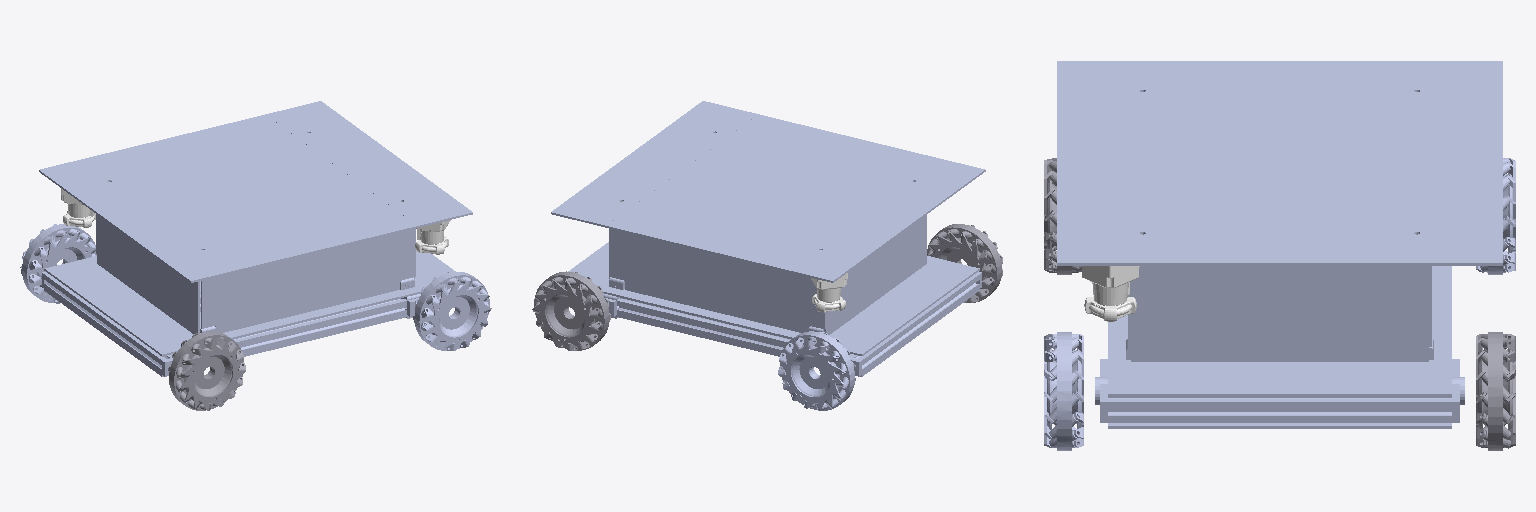
robot.urdf — itu_odv_description:
<?xml version="1.0" encoding="utf-8"?>
<!-- This URDF was automatically created by SolidWorks to URDF Exporter! Originally created by [author] ([email redacted]) 
     Commit Version: 1.6.0-1-g15f4949  Build Version: 1.6.7594.29634
     For more information, please see http://wiki.ros.org/sw_urdf_exporter -->
<robot
  name="itu_odv_description">
  <!-- base_link -->
  <link
    name="base_link">
    <inertial>
      <origin
        xyz="3.1086E-15 3.1114E-14 0.063778"
        rpy="0 0 0" />
      <mass
        value="1" />
      <inertia
        ixx="0.0838"
        ixy="2.8145E-10"
        ixz="-9.7612E-15"
        iyy="0.079577"
        iyz="-3.0801E-17"
        izz="0.15789" />
    </inertial>
    <visual>
      <origin
        xyz="0 0 0"
        rpy="0 0 0" />
      <geometry>
        <mesh
          filename="package://itu_odv_description/meshes/base_link.STL" />
      </geometry>
      <material
        name="">
        <color
          rgba="0.79216 0.81961 0.93333 1" />
      </material>
    </visual>
    <collision>
      <origin
        xyz="0 0 0"
        rpy="0 0 0" />
      <geometry>
        <mesh
          filename="package://itu_odv_description/meshes/base_link.STL" />
      </geometry>
    </collision>
  </link>
  <!-- front_right_wheel_link -->
  <link
    name="front_right_wheel_link">
    <inertial>
      <origin
        xyz="-5.2003E-09 -1.5816E-05 -7.4067E-09"
        rpy="0 0 0" />
      <mass
        value="0.1" />
      <inertia
        ixx="0.00072883"
        ixy="2.5798E-11"
        ixz="-2.3168E-10"
        iyy="0.0013926"
        iyz="-3.7292E-11"
        izz="0.00072883" />
    </inertial>
    <visual>
      <origin
        xyz="0 0 0"
        rpy="0 0 0" />
      <geometry>
        <mesh
          filename="package://itu_odv_description/meshes/front_right_wheel_link.STL" />
      </geometry>
      <material
        name="">
        <color
          rgba="0.79216 0.81961 0.93333 1" />
      </material>
    </visual>
    <collision>
      <origin
        xyz="-5.2003E-09 -1.5816E-05 -7.4067E-09"
        rpy="0 0 0" />
      <geometry>
        <mesh
          filename="package://itu_odv_description/meshes/front_right_wheel_link.STL" />
      </geometry>
    </collision>
  </link>
  <joint
    name="front_right_wheel_joint"
    type="continuous">
    <origin
      xyz="0.265 -0.275 -0.0053038"
      rpy="0 0 0" />
    <parent
      link="base_link" />
    <child
      link="front_right_wheel_link" />
    <axis
      xyz="0 1 0" />
    <limit
      effort="100"
      velocity="100" />
  </joint>

  <!-- front_left_wheel_link -->
  <link
    name="front_left_wheel_link">
    <inertial>
      <origin
        xyz="-1.2223E-09 1.599E-05 1.0161E-08"
        rpy="0 0 0" />
      <mass
        value="0.1" />
      <inertia
        ixx="0.00072883"
        ixy="4.9301E-13"
        ixz="-1.1558E-10"
        iyy="0.0013926"
        iyz="-2.5587E-11"
        izz="0.00072883" />
    </inertial>
    <visual>
      <origin
        xyz="0 0 0"
        rpy="0 0 0" />
      <geometry>
        <mesh
          filename="package://itu_odv_description/meshes/front_left_wheel_link.STL" />
      </geometry>
      <material
        name="">
        <color
          rgba="0.67843 0.67843 0.72941 1" />
      </material>
    </visual>
    <collision>
      <origin
        xyz="-5.2003E-09 -1.5816E-05 -7.4067E-09"
        rpy="0 0 0" />
      <geometry>
        <mesh
          filename="package://itu_odv_description/meshes/front_left_wheel_link.STL" />
      </geometry>
    </collision>
  </link>
  <joint
    name="front_left_wheel_joint"
    type="continuous">
    <origin
      xyz="0.265 0.275 -0.0053038"
      rpy="0 0 0" />
    <parent
      link="base_link" />
    <child
      link="front_left_wheel_link" />
    <axis
      xyz="0 -1 0" />
    <limit
      effort="100"
      velocity="100" />
  </joint>

  <!-- rear_right_wheel_link -->
  <link
    name="rear_right_wheel_link">
    <inertial>
      <origin
        xyz="9.4049E-12 1.599E-05 9.4543E-09"
        rpy="0 0 0" />
      <mass
        value="0.1" />
      <inertia
        ixx="0.00072883"
        ixy="2.1862E-12"
        ixz="-3.7811E-10"
        iyy="0.0013926"
        iyz="-1.9384E-11"
        izz="0.00072883" />
    </inertial>
    <visual>
      <origin
        xyz="0 0 0"
        rpy="0 0 0" />
      <geometry>
        <mesh
          filename="package://itu_odv_description/meshes/rear_right_wheel_link.STL" />
      </geometry>
      <material
        name="">
        <color
          rgba="0.67843 0.67843 0.72941 1" />
      </material>
    </visual>
    <collision>
      <origin
        xyz="-5.2003E-09 -1.5816E-05 -7.4067E-09"
        rpy="0 0 0" />
      <geometry>
        <mesh
          filename="package://itu_odv_description/meshes/rear_right_wheel_link.STL" />
      </geometry>
    </collision>
  </link>
  <joint
    name="rear_right_wheel_joint"
    type="continuous">
    <origin
      xyz="-0.265 -0.275 -0.0053038"
      rpy="0 0 0" />
    <parent
      link="base_link" />
    <child
      link="rear_right_wheel_link" />
    <axis
      xyz="0 1 0" />
    <limit
      effort="100"
      velocity="100" />
  </joint>

  <!-- rear_left_wheel_link -->
  <link
    name="rear_left_wheel_link">
    <inertial>
      <origin
        xyz="-5.1274E-09 -1.5816E-05 -7.7023E-09"
        rpy="0 0 0" />
      <mass
        value="0.1" />
      <inertia
        ixx="0.00072883"
        ixy="3.1087E-11"
        ixz="-2.0848E-10"
        iyy="0.0013926"
        iyz="-3.4598E-11"
        izz="0.00072883" />
    </inertial>
    <visual>
      <origin
        xyz="0 0 0"
        rpy="0 0 0" />
      <geometry>
        <mesh
          filename="package://itu_odv_description/meshes/rear_left_wheel_link.STL" />
      </geometry>
      <material
        name="">
        <color
          rgba="0.79216 0.81961 0.93333 1" />
      </material>
    </visual>
    <collision>
      <origin
        xyz="-5.2003E-09 -1.5816E-05 -7.4067E-09"
        rpy="0 0 0" />
      <geometry>
        <mesh
          filename="package://itu_odv_description/meshes/rear_left_wheel_link.STL" />
      </geometry>
    </collision>
  </link>
  <joint
    name="rear_left_wheel_joint"
    type="continuous">
    <origin
      xyz="-0.265 0.275 -0.0053038"
      rpy="0 0 0" />
    <parent
      link="base_link" />
    <child
      link="rear_left_wheel_link" />
    <axis
      xyz="0 -1 0" />
    <limit
      effort="100"
      velocity="100" />
  </joint>

  <!-- front_laser -->
  <link
    name="front_laser_link">
    <inertial>
      <origin
        xyz="0 0 0"
        rpy="0 0 0" />
      <mass
        value="0.1" />
      <inertia
        ixx="0"
        ixy="0"
        ixz="0"
        iyy="0"
        iyz="0"
        izz="0" />
    </inertial>
    <visual>
      <origin
        xyz="0 0 0"
        rpy="0 0 0" />
      <geometry>
        <mesh
          filename="package://itu_odv_description/meshes/front_laser_link.STL" />
      </geometry>
      <material
        name="">
        <color
          rgba="1 1 1 1" />
      </material>
    </visual>
    <collision>
      <origin
        xyz="0 0 0"
        rpy="0 0 0" />
      <geometry>
        <mesh
          filename="package://itu_odv_description/meshes/front_laser_link.STL" />
      </geometry>
    </collision>
  </link>
  <joint
    name="front_laser_joint"
    type="fixed">
    <origin
      xyz="0.25602 -0.21602 0.1487"
      rpy="3.1416 0 -0.7854" />
    <parent
      link="base_link" />
    <child
      link="front_laser_link" />
    <axis
      xyz="0 0 0" />
  </joint>

  <!-- rear_laser -->
  <link
    name="rear_laser_link">
    <inertial>
      <origin
        xyz="0 0 0"
        rpy="0 0 0" />
      <mass
        value="0.1" />
      <inertia
        ixx="0"
        ixy="0"
        ixz="0"
        iyy="0"
        iyz="0"
        izz="0" />
    </inertial>
    <visual>
      <origin
        xyz="0 0 0"
        rpy="0 0 0" />
      <geometry>
        <mesh
          filename="package://itu_odv_description/meshes/rear_laser_link.STL" />
      </geometry>
      <material
        name="">
        <color
          rgba="1 1 1 1" />
      </material>
    </visual>
    <collision>
      <origin
        xyz="0 0 0"
        rpy="0 0 0" />
      <geometry>
        <mesh
          filename="package://itu_odv_description/meshes/rear_laser_link.STL" />
      </geometry>
    </collision>
  </link>
  <joint
    name="rear_laser_joint"
    type="fixed">
    <origin
      xyz="-0.25602 0.21602 0.1487"
      rpy="-3.1416 0 2.3562" />
    <parent
      link="base_link" />
    <child
      link="rear_laser_link" />
    <axis
      xyz="0 0 0" />
  </joint>

  <!-- imu link -->
  <link name="imu_link">
	<inertial>
		<mass value="1e-5" />
		<origin xyz="0 0 0" rpy="0 0 0" />
		<inertia ixx="1e-6" ixy="0" ixz="0" iyy="1e-6" iyz="0" izz="1e-6" />
	</inertial>

	<visual>
		<origin xyz="0 0 0" rpy="0 0 0" />
		<geometry>
			<box size="0.01 0.01 0.01" />
		</geometry>
	</visual>

	<collision>
		<origin xyz="0 0 0" rpy="0 0 0" />
		<geometry>
			<box size="0.01 0.01 0.01" />
		</geometry>
	</collision>
  </link>

  <joint name="imu_joint" type="fixed">
	<axis xyz="0 1 0" />
	<origin xyz="0 0 0.1" rpy="0 0 0" /> 
	<parent link="base_link" />
	<child link="imu_link" />
  </joint>
  
  
</robot>

--- Facts derived from the render (not from the file) ---
3 views of the same robot in one strip: view 1: azimuth 30°, elevation 25°; view 2: azimuth 150°, elevation 25°; view 3: azimuth 270°, elevation 25° (orthographic).
Robot: itu_odv_description — 8 links, 7 joints (4 continuous, 3 fixed); root link base_link; default pose: all joints at 0.
Links seen in each view (by area): view 1: base_link, rear_right_wheel_link, front_right_wheel_link, rear_left_wheel_link, front_laser_link, rear_laser_link; view 2: base_link, rear_left_wheel_link, front_left_wheel_link, rear_right_wheel_link, rear_laser_link; view 3: base_link, front_left_wheel_link, front_right_wheel_link, front_laser_link, rear_right_wheel_link, rear_left_wheel_link.
Link boxes in pixels (x1,y1,x2,y2): base_link: (39, 101, 472, 376); rear_right_wheel_link: (168, 331, 245, 410); front_right_wheel_link: (413, 272, 491, 350); rear_left_wheel_link: (20, 224, 96, 303); front_laser_link: (415, 220, 450, 254); rear_laser_link: (61, 188, 95, 227); base_link: (551, 101, 985, 376); rear_left_wheel_link: (778, 331, 855, 410); front_left_wheel_link: (532, 271, 610, 350); rear_right_wheel_link: (927, 224, 1002, 302); rear_laser_link: (811, 273, 847, 312); base_link: (1057, 61, 1502, 428); front_left_wheel_link: (1476, 332, 1515, 450); front_right_wheel_link: (1044, 332, 1083, 450); front_laser_link: (1081, 266, 1139, 321); rear_right_wheel_link: (1044, 158, 1081, 274); rear_left_wheel_link: (1476, 158, 1515, 274).
Size in the robot's own frame: 0.6824 by 0.6008 by 0.2752 metres.
7 mesh visuals loaded from 7 distinct referenced files (7 binary STL).
